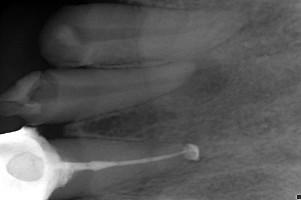Furcation Involvement: (171, 56, 230, 104)
